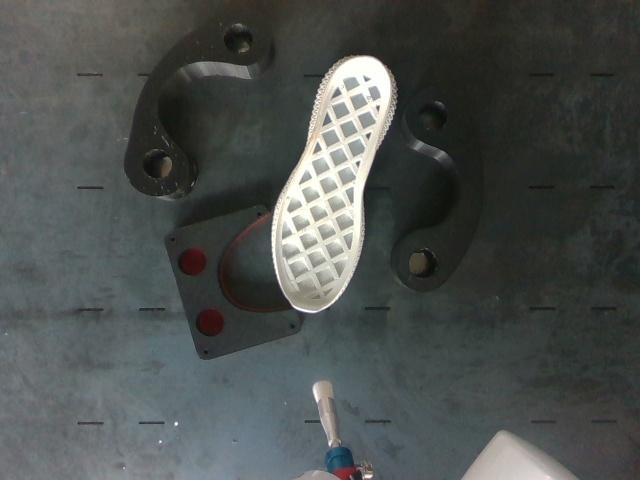shoes: (274, 56, 391, 310)
